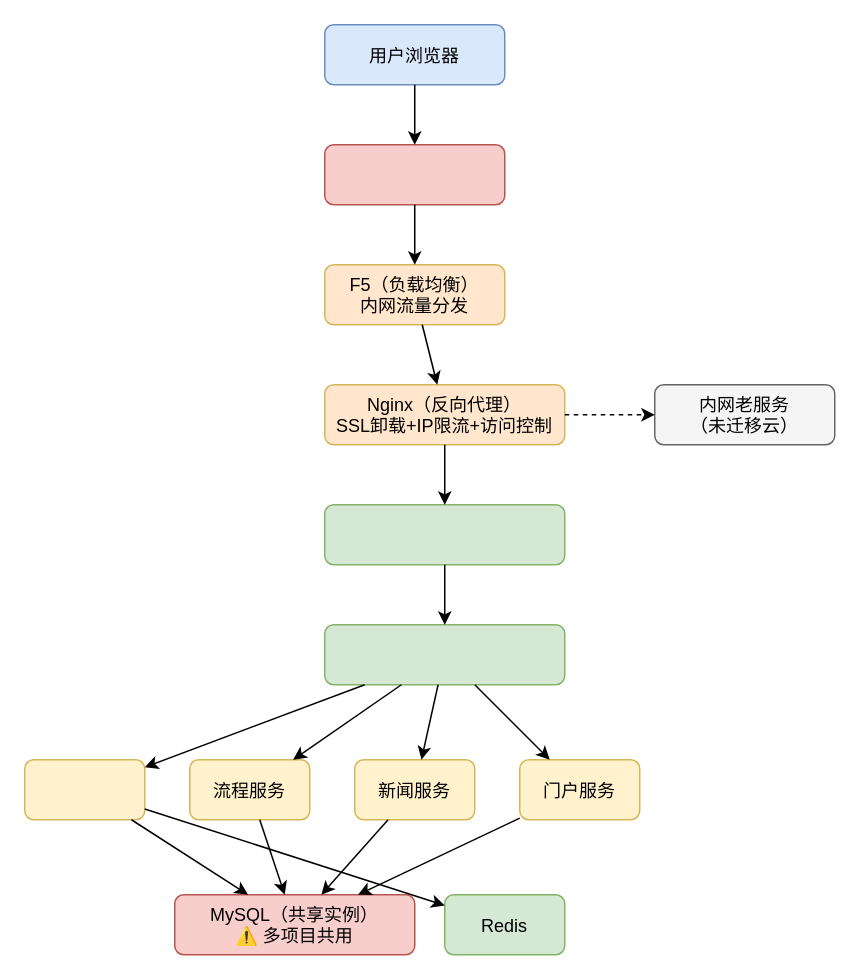
Some shapes in this 860 by 980 pixel diagram are drawn without their labels. Here are the shapes that lost their labels. From the top down, the centre of each, then its label:
(414,174): 瑞数（安全防护） 拦截爬虫/攻击
(444,534): Ingress（集团云平台） K8S流量入口
(444,654): Spring Cloud Gateway 鉴权+路由+服务限流
(84,789): 待办服务
